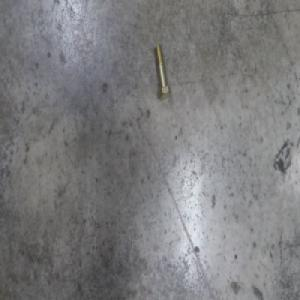Bolt: (155, 41, 172, 99)
